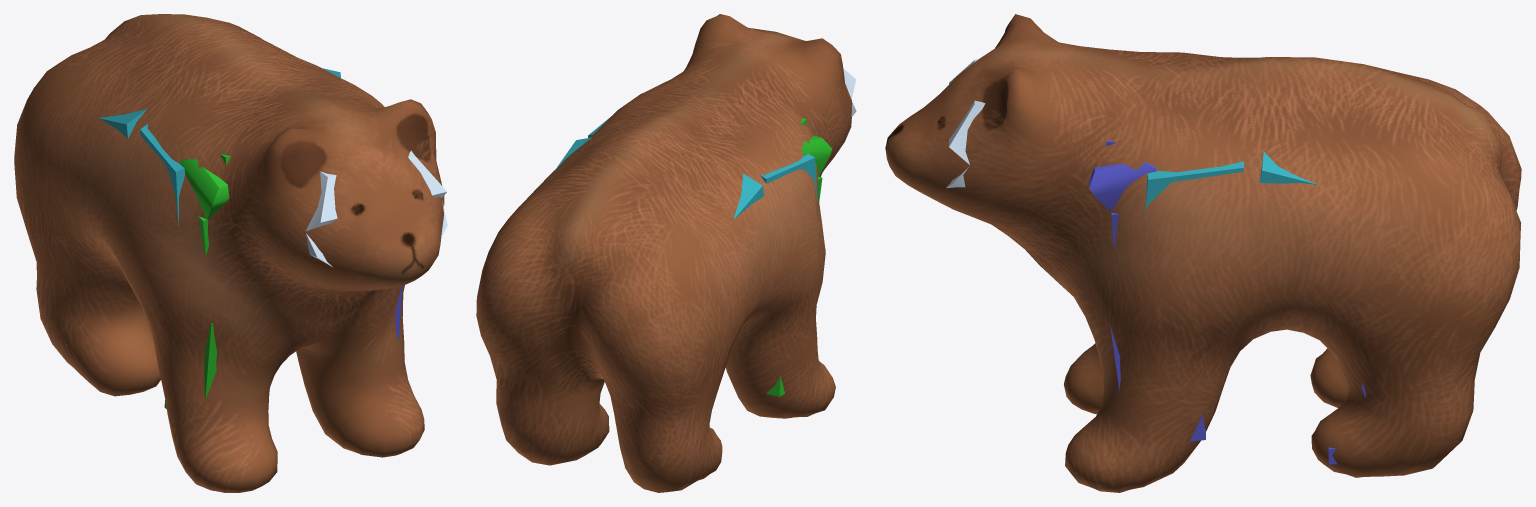
Rendered from bear-animation-pose-nuetral.glb.
3 views of the same model, side by side, from view 1: azimuth 30°, elevation 25°; view 2: azimuth 150°, elevation 25°; view 3: azimuth 270°, elevation 25° (orthographic). The views are drawn at different scales.
Parts seen in each view (by area): view 1: lp_1502, Bip001 Head, Bip001 R UpperArm, Bip001 Spine1, Bip001 R Hand, Bip001 Spine; view 2: lp_1502, Bip001 Spine, Bip001 Spine1, Bip001 R UpperArm; view 3: lp_1502, Bip001 L UpperArm, Bip001 Spine1, Bip001 Head, Bip001 Spine.
Part boxes in pixels (x1,y1,x2,y2): lp_1502: [14, 14, 444, 492]; Bip001 Head: [306, 150, 447, 266]; Bip001 R UpperArm: [180, 159, 229, 219]; Bip001 Spine1: [140, 79, 344, 226]; Bip001 R Hand: [164, 323, 216, 409]; Bip001 Spine: [98, 68, 340, 138]; lp_1502: [476, 14, 852, 492]; Bip001 Spine: [554, 137, 763, 219]; Bip001 Spine1: [588, 117, 817, 200]; Bip001 R UpperArm: [801, 135, 832, 176]; lp_1502: [885, 14, 1521, 492]; Bip001 L UpperArm: [1089, 162, 1156, 212]; Bip001 Spine1: [1145, 161, 1244, 213]; Bip001 Head: [946, 59, 985, 188]; Bip001 Spine: [1259, 151, 1318, 184].
Bounding box in the file's own units: 0.4346 × 0.6078 × 0.8716.
25 materials, 1 textured.
